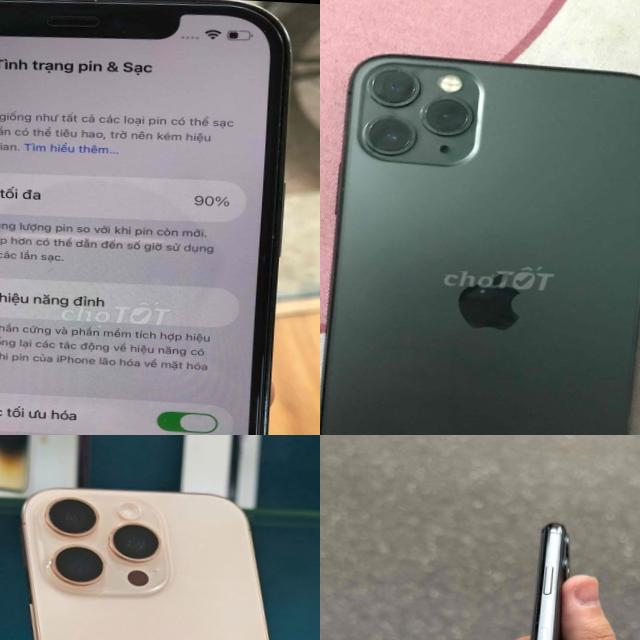gen_11: (320, 44, 640, 435), (493, 512, 600, 640)
gen_12_13: (0, 0, 301, 435)
gen_16: (22, 489, 269, 640)
scratch: (351, 60, 475, 162)
